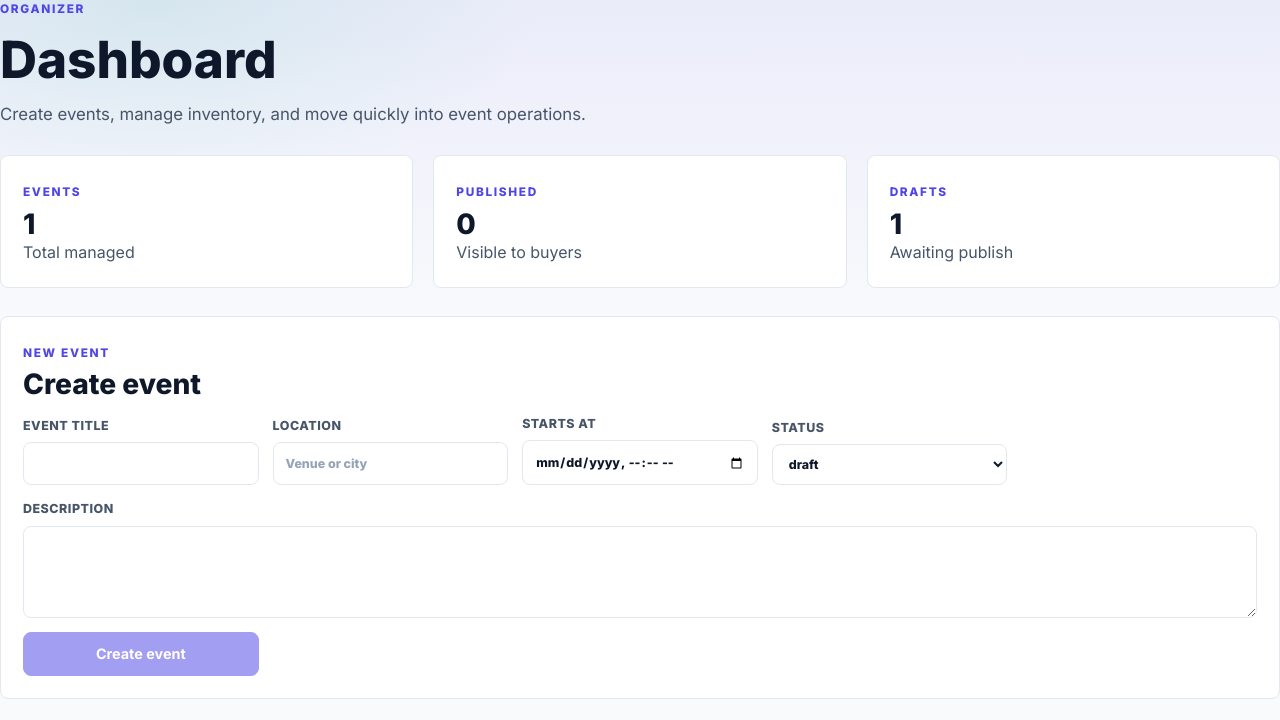
Test: OrganizerDashboard › lists events and creates a new one
Type "Brand New" into the field labelled "Event title". click: (141, 464)
box: 23,442 -> 259,485
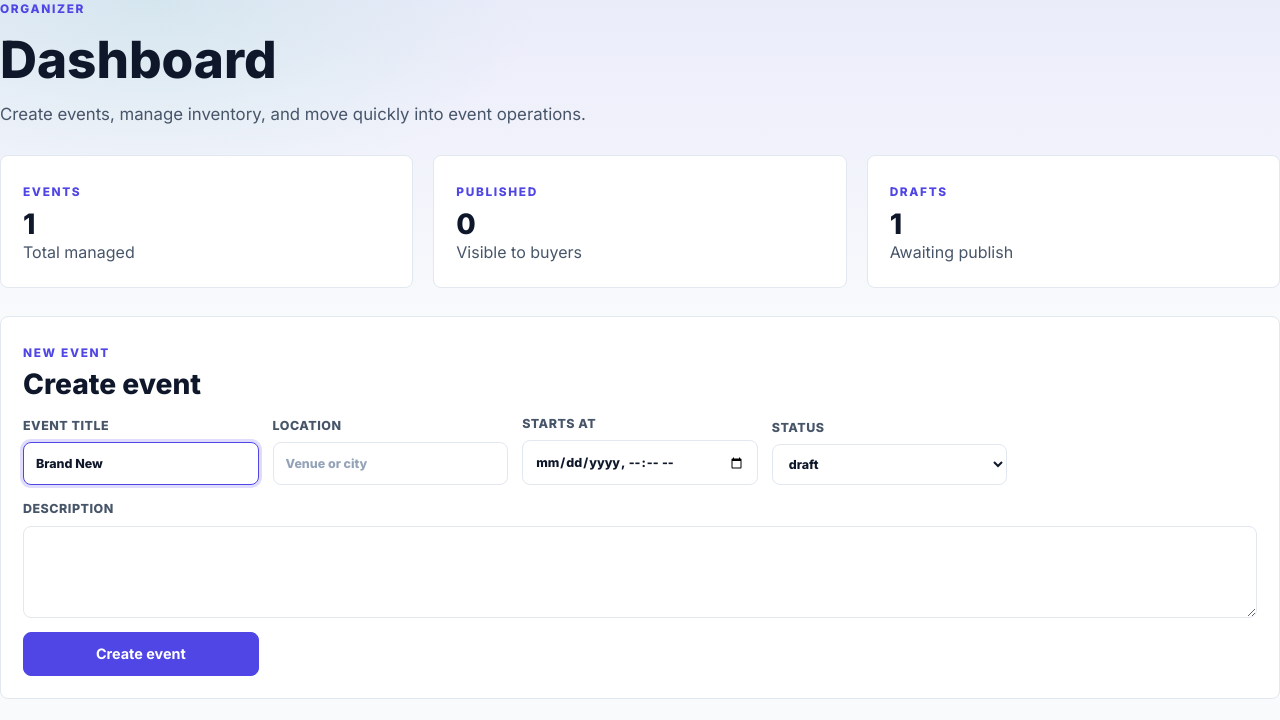
Click the button "Create event". click: (141, 654)
box: 23,632 -> 259,676
(page scrolled)
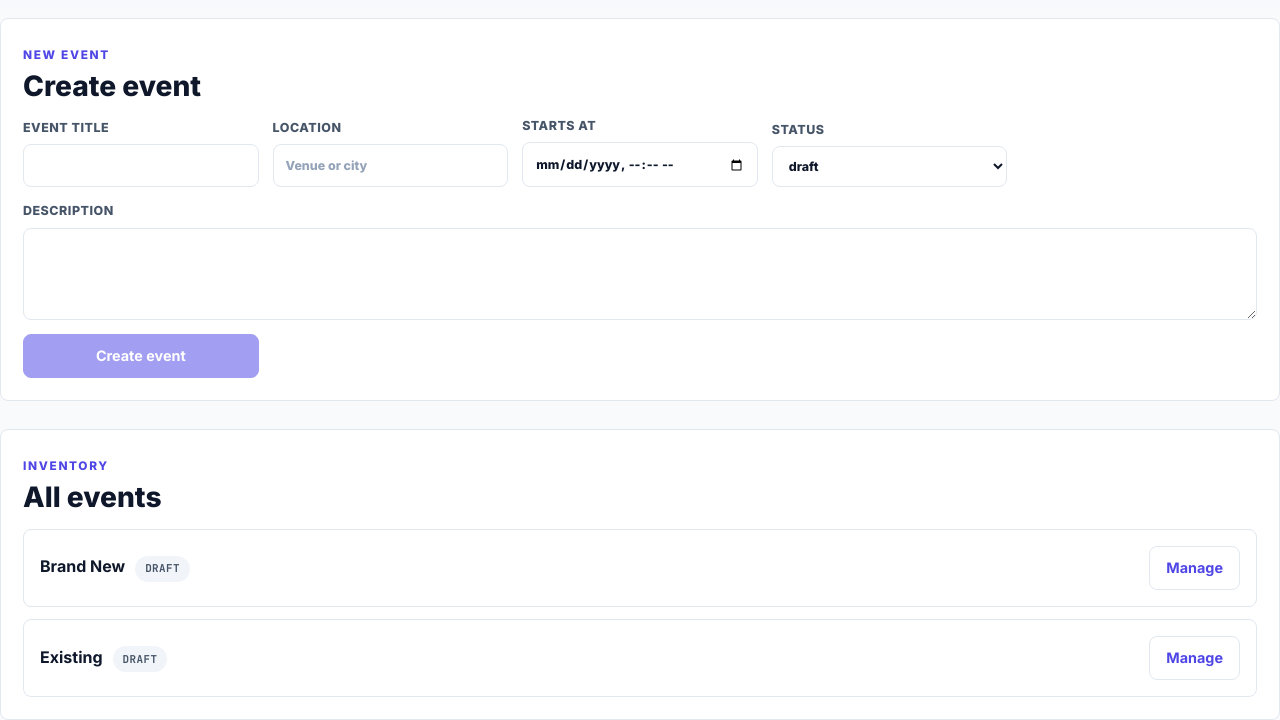
Result: the text "Brand New" is shown at 40,556 -> 125,576
